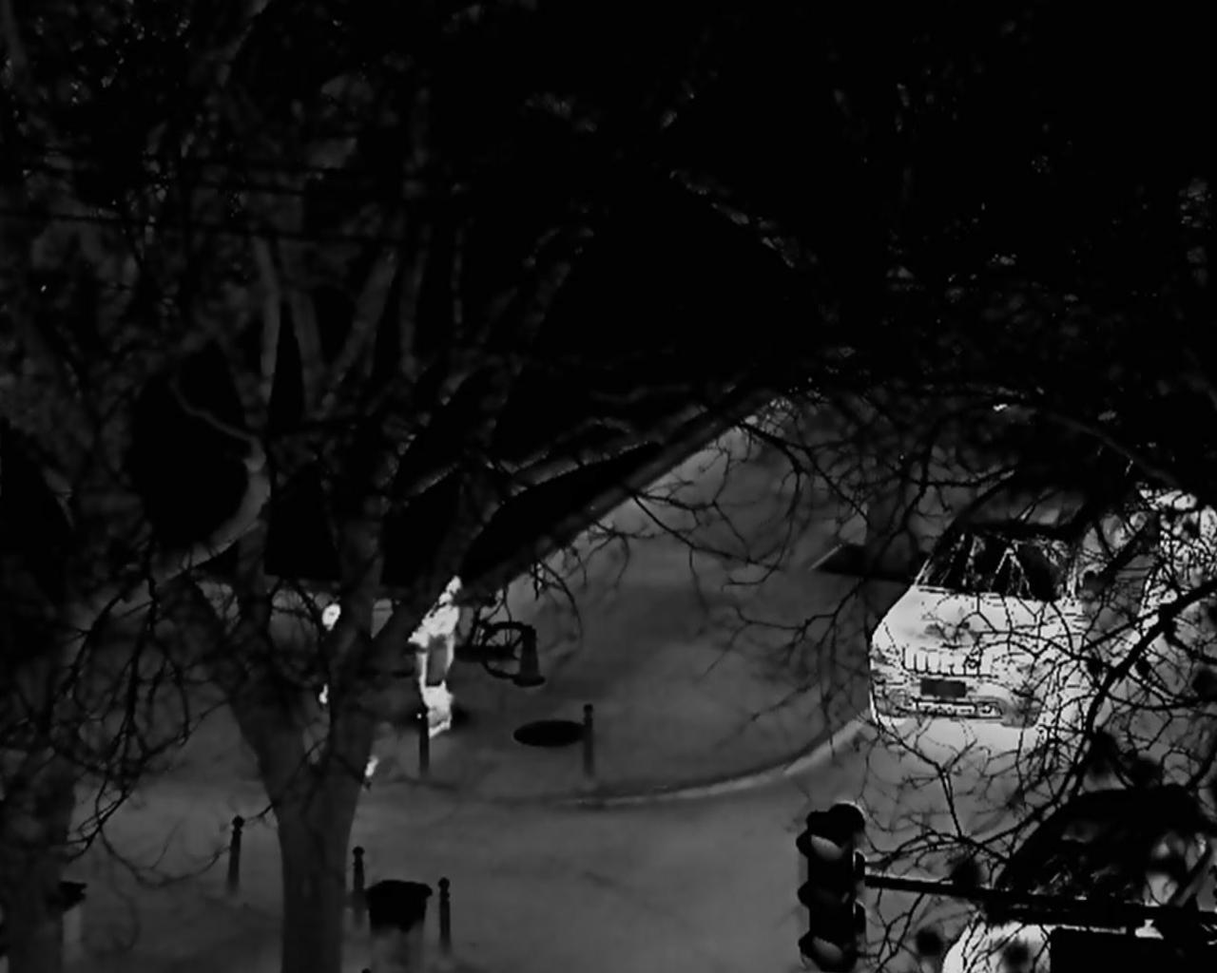person: (409, 572, 463, 739)
